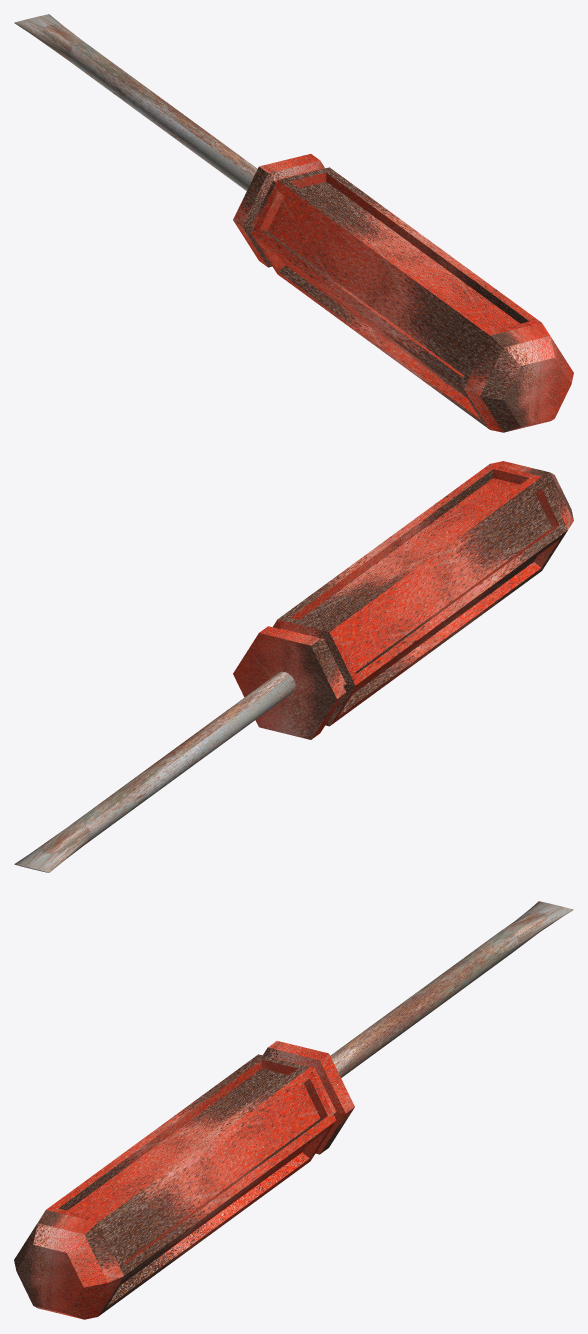
File: screwdriver.fbx
3 renders of one model, top to bottom at view 1: azimuth 30°, elevation 25°; view 2: azimuth 150°, elevation 25°; view 3: azimuth 330°, elevation 25°, orthographic.
Parts seen in each view (by area): view 1: screwdriver, screwdriver1; view 2: screwdriver, screwdriver1; view 3: screwdriver, screwdriver1.
Boxes of the visible parts, x1,y1,x2,y2 form: screwdriver: (233, 154, 573, 432); screwdriver1: (14, 14, 257, 190); screwdriver: (233, 461, 573, 739); screwdriver1: (14, 671, 295, 872); screwdriver: (14, 1041, 354, 1319); screwdriver1: (330, 901, 573, 1077).
Bounding box in the file's own units: 18.62 × 16.13 × 157.
2 materials, 2 textured.
